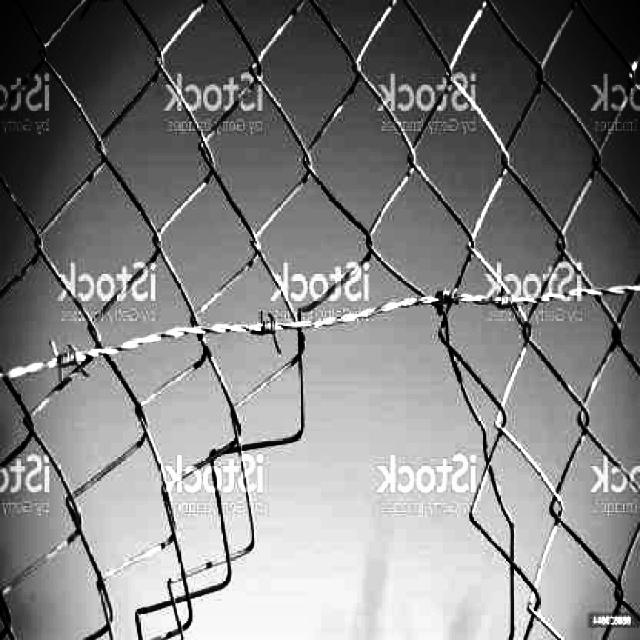anomaly-fence: (141, 244, 564, 640)
